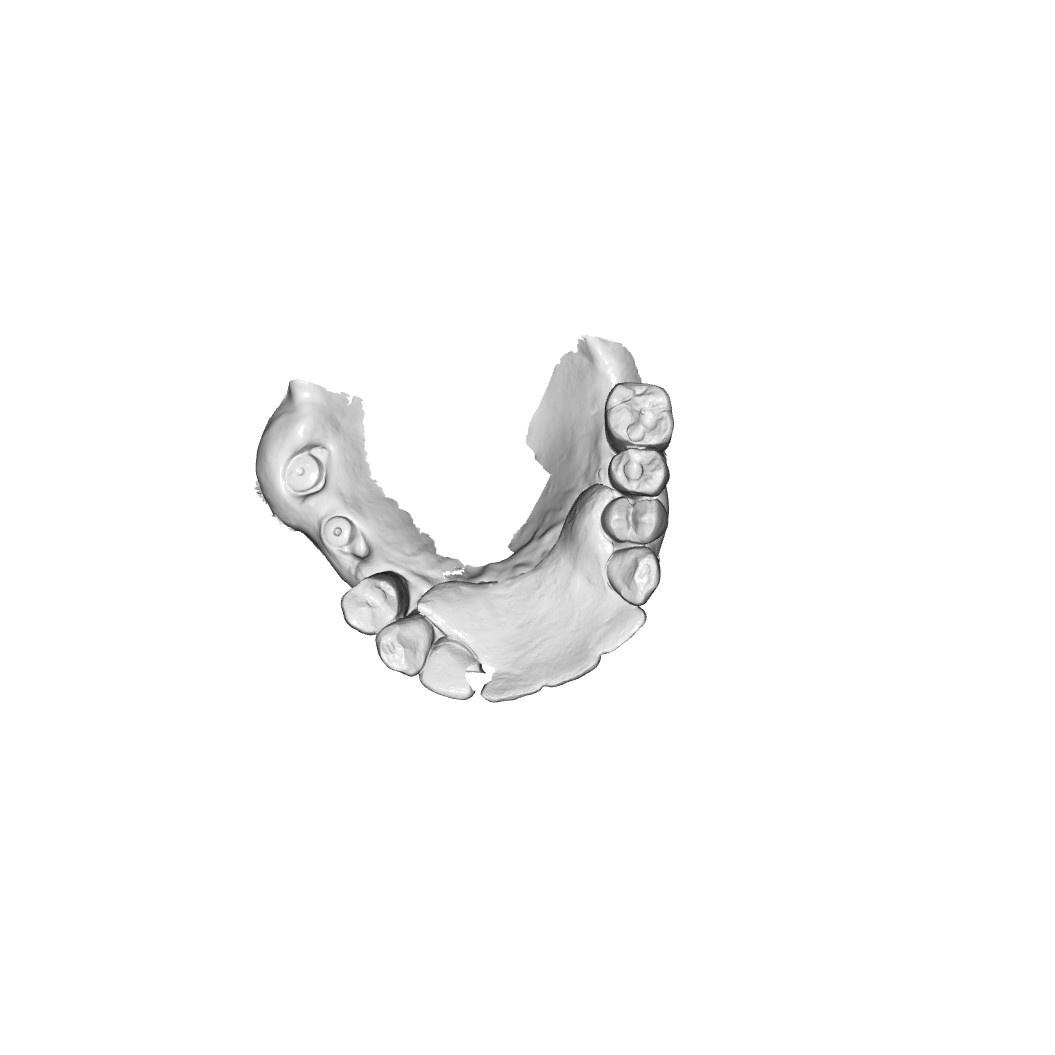canine: (603, 542, 663, 607), (375, 614, 432, 677)
implant: (278, 449, 328, 496), (316, 511, 363, 561)
incisor: (418, 640, 479, 702), (539, 639, 601, 691), (480, 658, 542, 706), (594, 601, 647, 657)
molar: (602, 381, 675, 451)
premolar: (339, 572, 404, 637), (598, 494, 669, 550), (604, 441, 671, 497)
